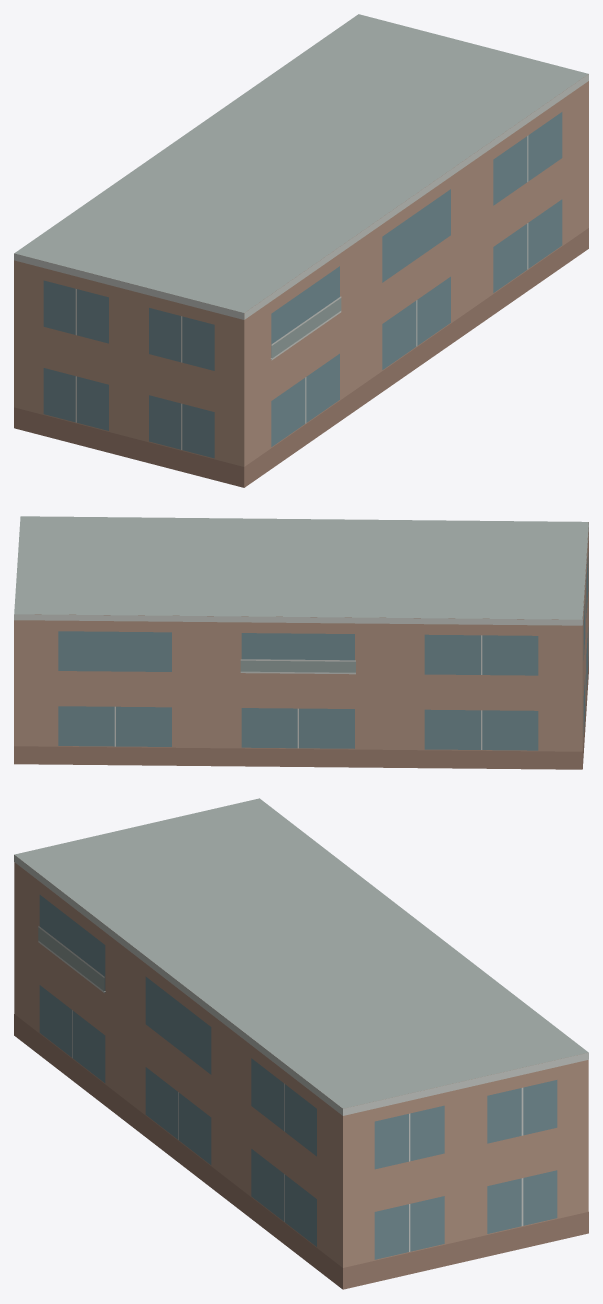
File: survey-upis-32704068.glb
3 renders of one model, top to bottom at view 1: azimuth 30°, elevation 25°; view 2: azimuth 150°, elevation 25°; view 3: azimuth 270°, elevation 25°, orthographic. The views are drawn at different scales.
Visible parts, largest first — view 1: survey-upis-32704068.tmp; view 2: survey-upis-32704068.tmp; view 3: survey-upis-32704068.tmp.
Part boxes in pixels (x1,y1,x2,y2): survey-upis-32704068.tmp: (14,14,588,487); survey-upis-32704068.tmp: (14,516,588,769); survey-upis-32704068.tmp: (14,798,588,1289).
Bounding box in the file's own units: 22.47 × 6.1 × 17.58.
